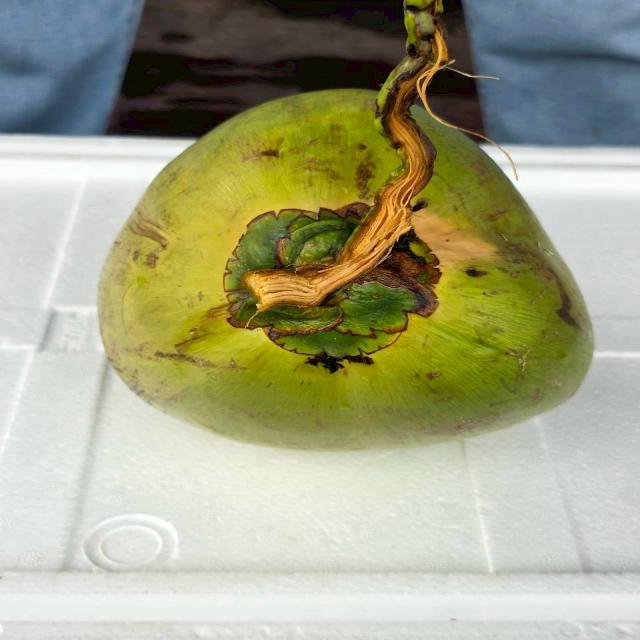coco_2.0: (199, 181, 461, 390)
